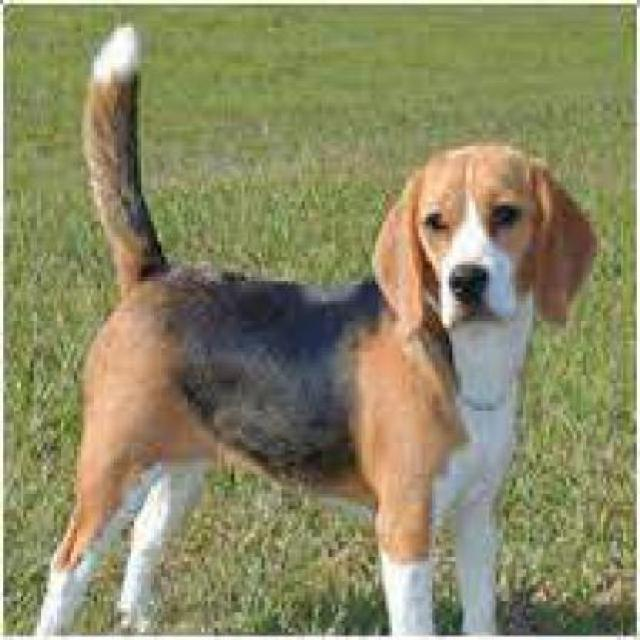Dog: (31, 22, 606, 630)
